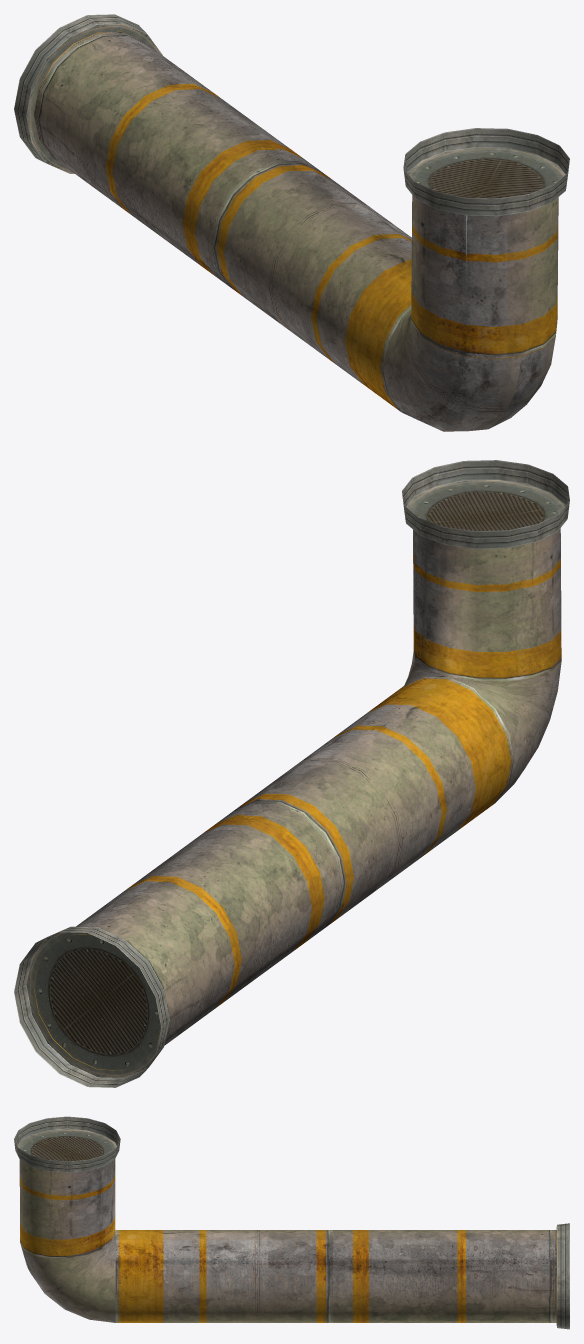
File: EQP_PIPES001.FBX
The picture shows the model from 3 angles, top to bottom: view 1: azimuth 30°, elevation 25°; view 2: azimuth 150°, elevation 25°; view 3: azimuth 270°, elevation 25°; orthographic projection. The views are drawn at different scales.
Parts seen in each view (by area): view 1: Cylinder063, PIPES001; view 2: Cylinder063, PIPES001; view 3: Cylinder063, PIPES001.
Boxes of the visible parts, x1,y1,x2,y2 form: Cylinder063: [33, 31, 558, 431]; PIPES001: [14, 14, 569, 215]; Cylinder063: [33, 483, 561, 1070]; PIPES001: [14, 460, 569, 1087]; Cylinder063: [19, 1131, 556, 1322]; PIPES001: [14, 1116, 569, 1329].
Bounding box in the file's own units: 65.63 × 124 × 336.
Materials: 1 (1 with a texture image).
